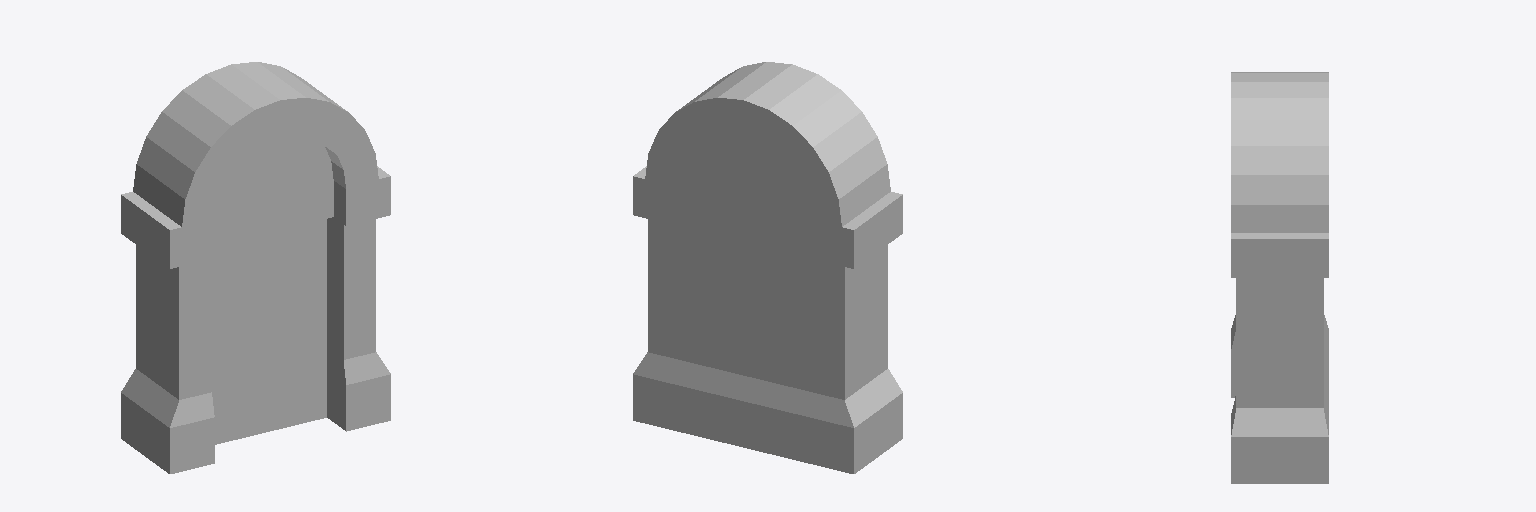
Rendered from gravestoneRound.obj.
The picture shows the model from 3 angles: view 1: azimuth 30°, elevation 25°; view 2: azimuth 150°, elevation 25°; view 3: azimuth 270°, elevation 25°; orthographic projection.
Visible parts, largest first — view 1: gravestoneRound; view 2: gravestoneRound; view 3: gravestoneRound.
Boxes of the visible parts, box(x1,y1,x2,y2) form: gravestoneRound: box(121, 62, 390, 473); gravestoneRound: box(633, 62, 902, 473); gravestoneRound: box(1231, 72, 1328, 483).
Size of the model in its own units: 0.39 by 0.585 by 0.1495.